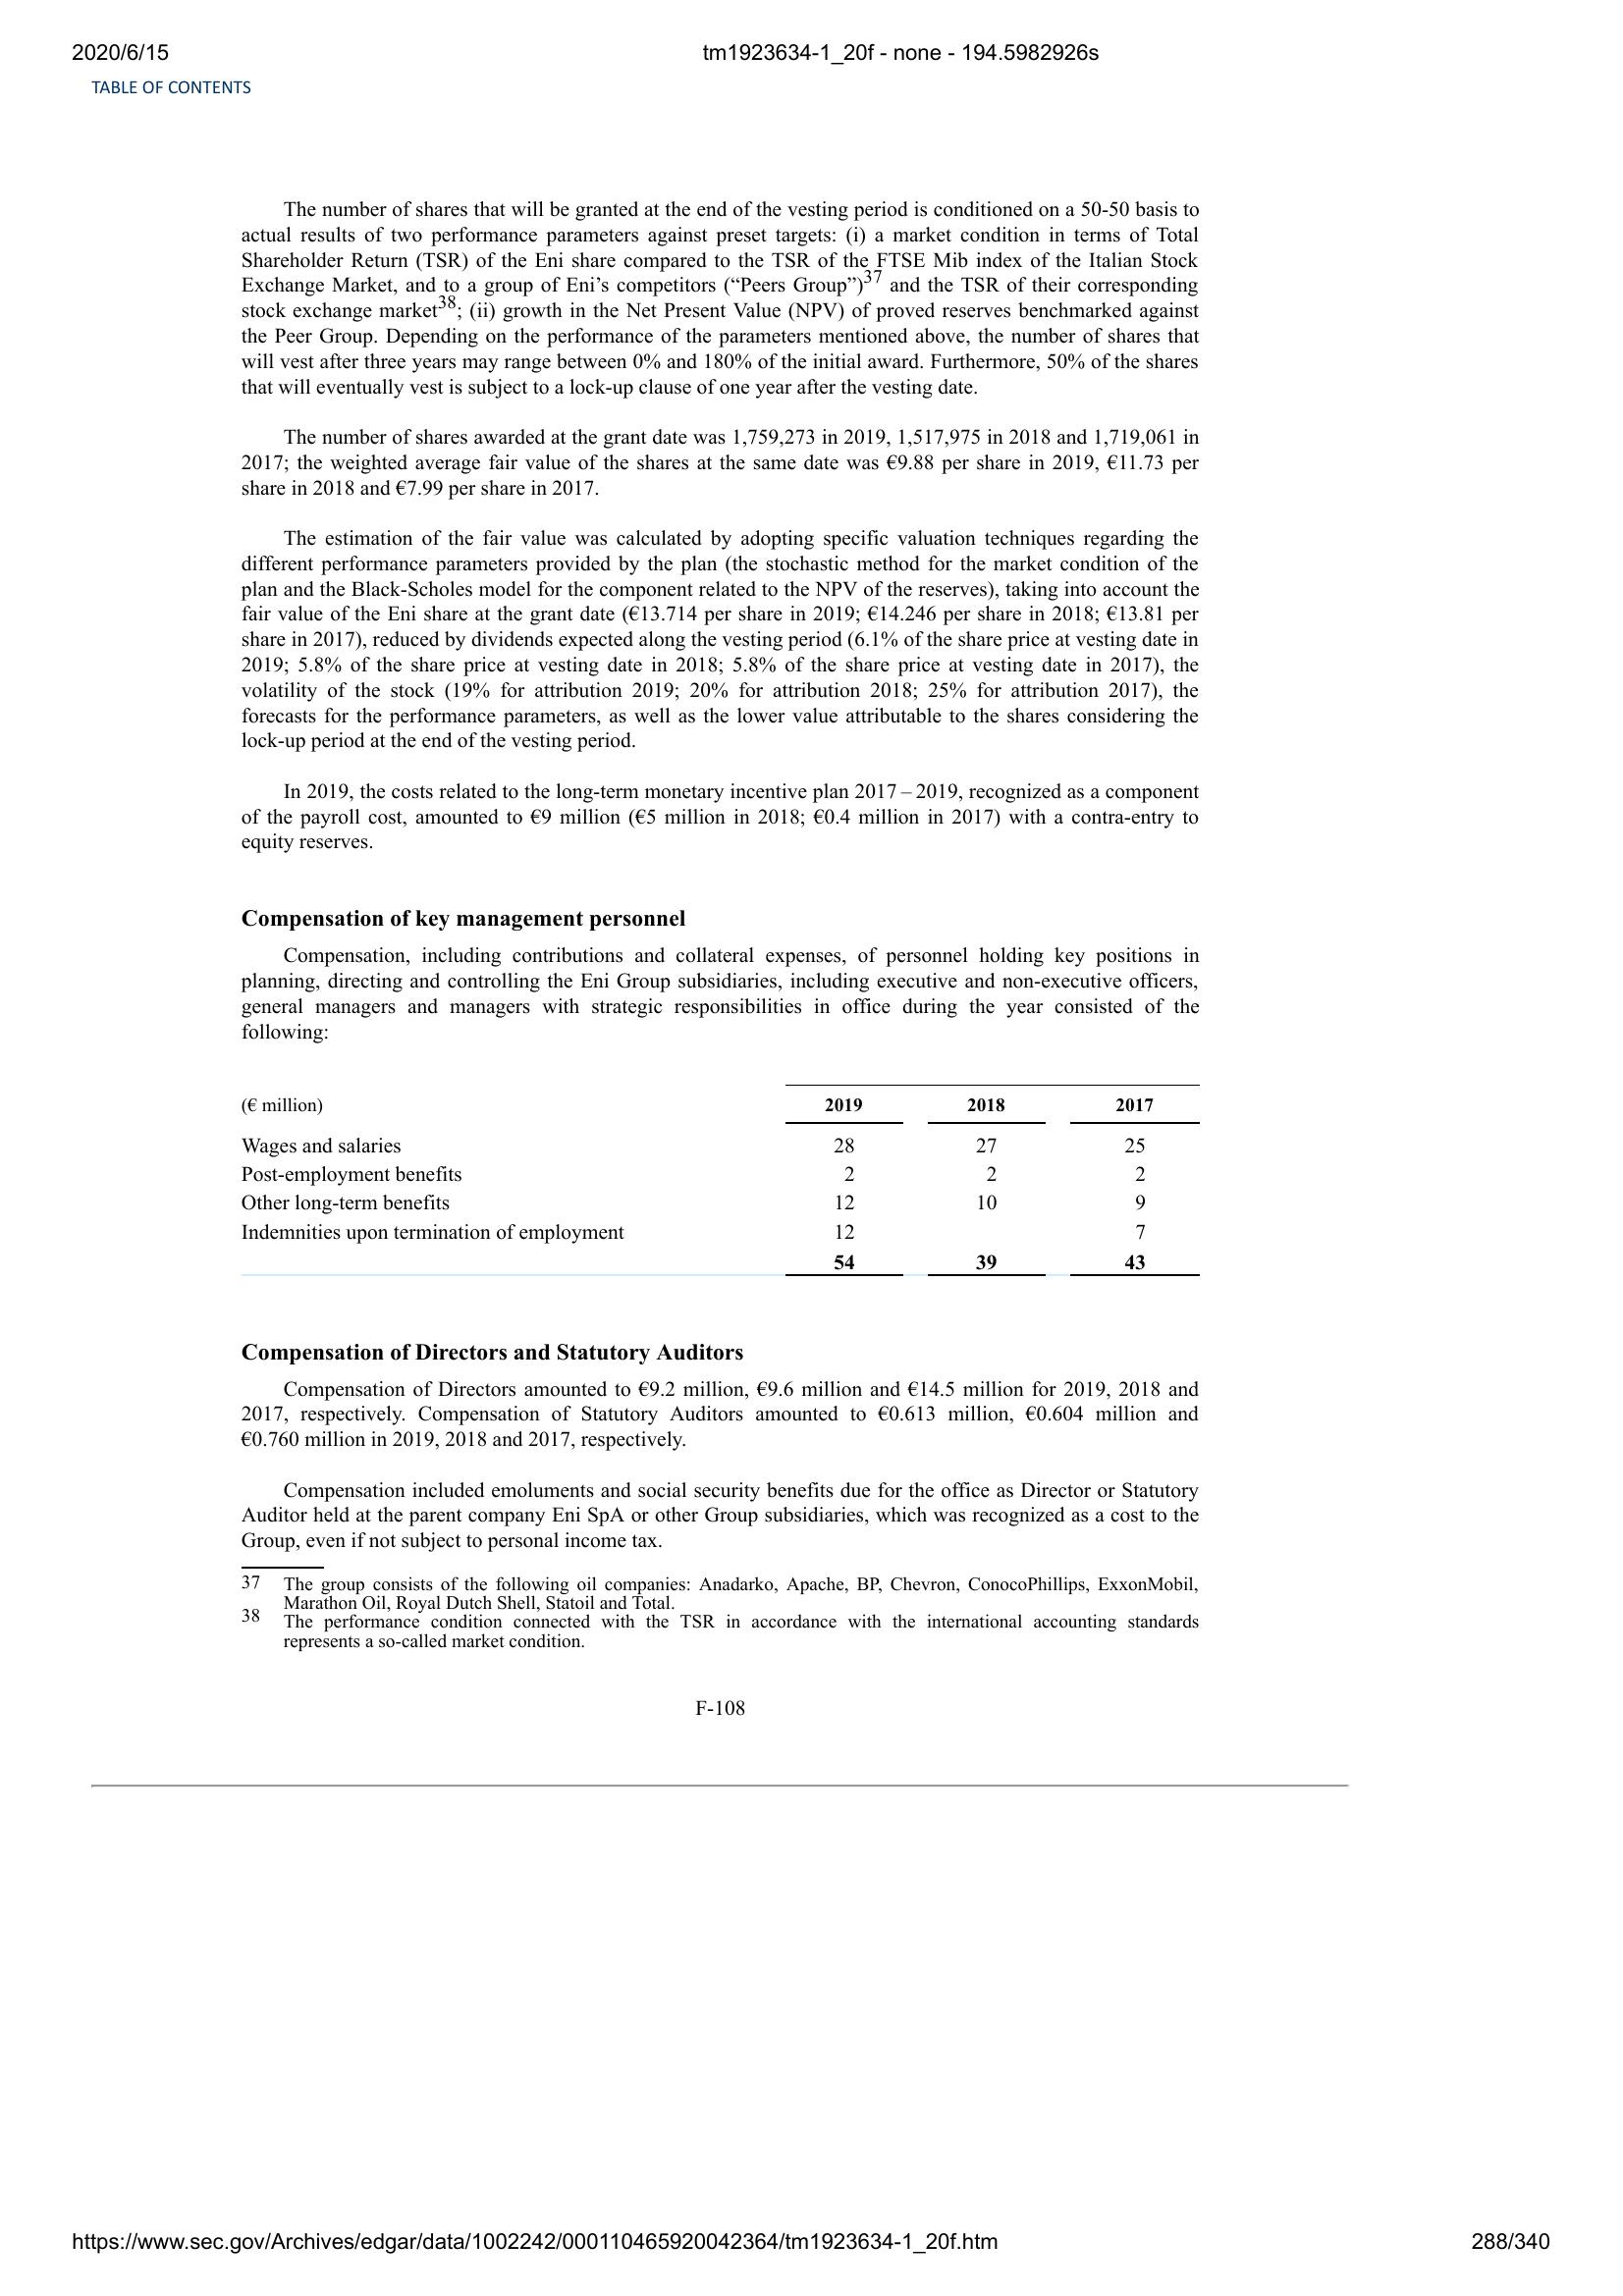table: (234, 1074, 1205, 1280)
